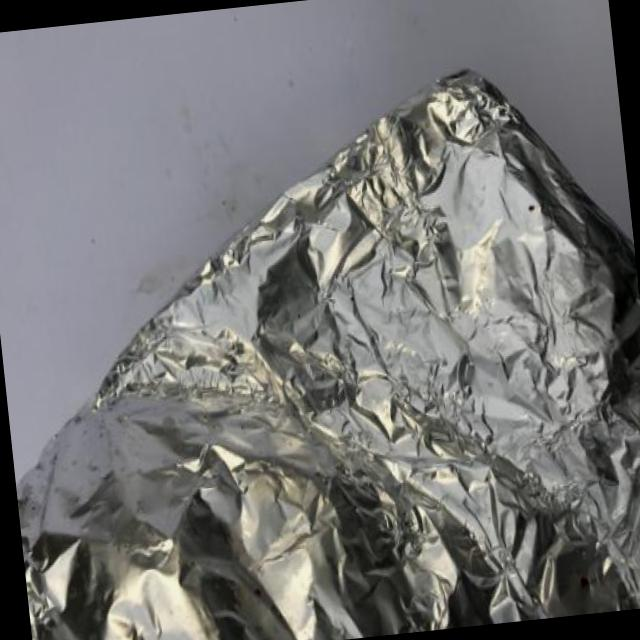metal: (18, 73, 639, 639)
